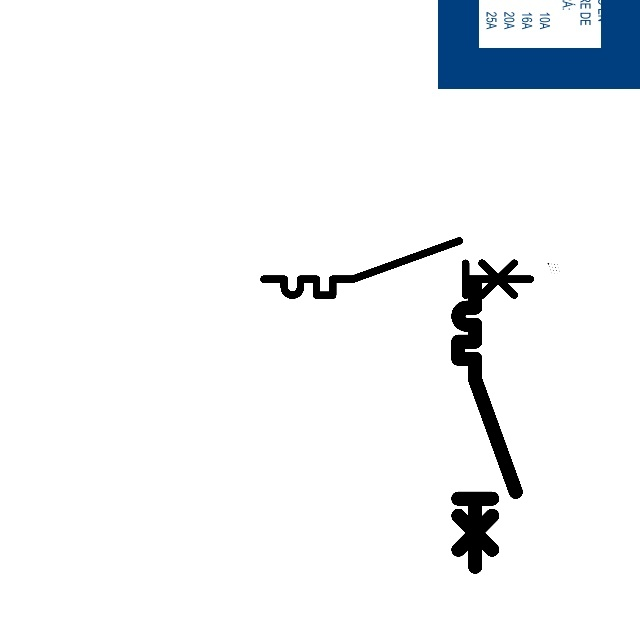interruptor_termomagnetico: (451, 279, 523, 574), (257, 234, 537, 302)
